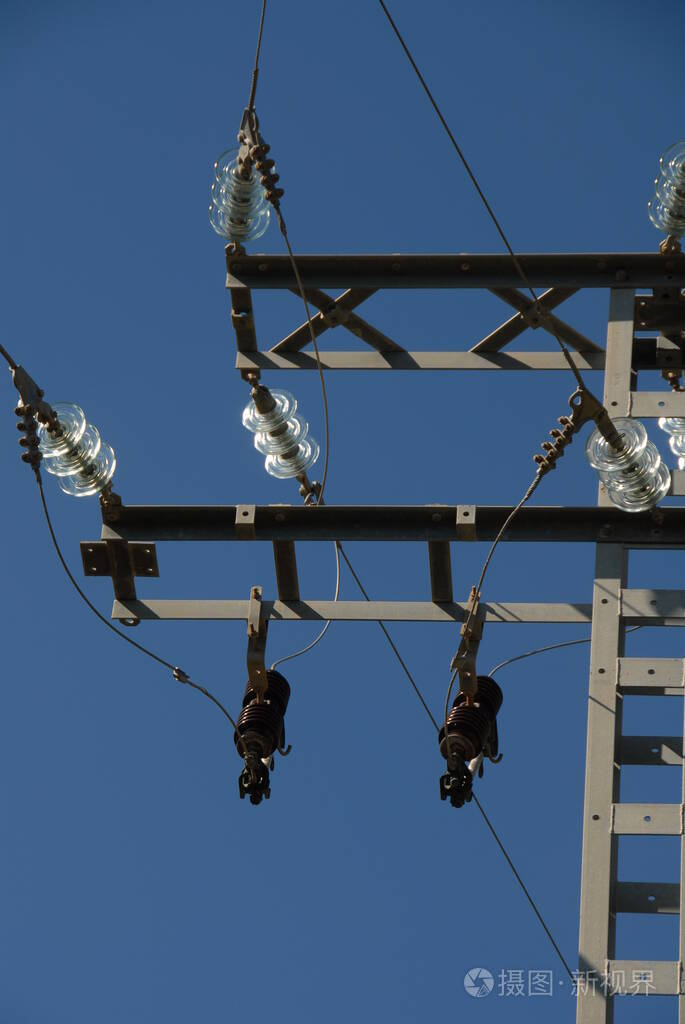insulator: (26, 405, 117, 497), (588, 419, 671, 509), (238, 392, 324, 478), (203, 148, 273, 241), (644, 147, 685, 237)
